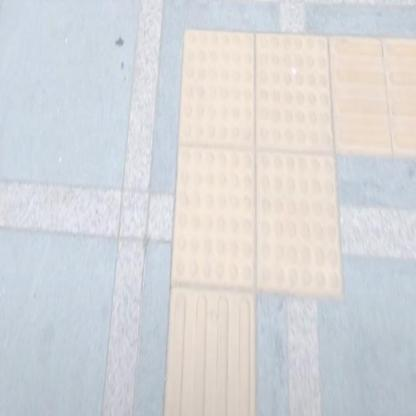podotacti: (119, 0, 411, 395), (165, 290, 259, 415), (332, 37, 416, 154)
